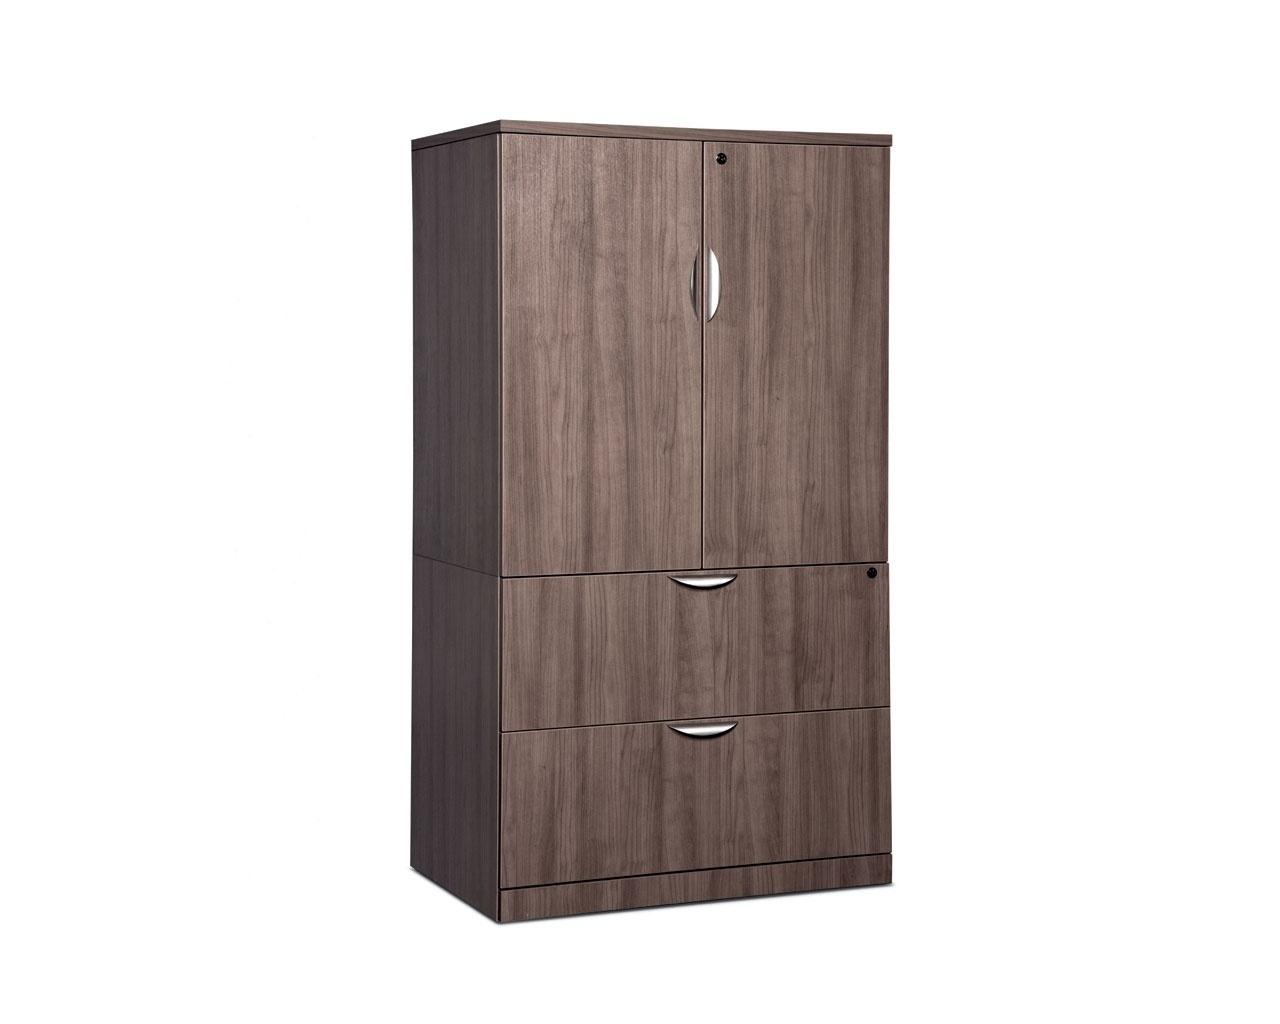cabinet_door: (699, 130, 894, 566), (499, 133, 693, 564), (506, 718, 885, 867), (516, 575, 894, 721)
handle: (670, 567, 744, 596), (667, 718, 738, 746), (703, 248, 724, 322)
